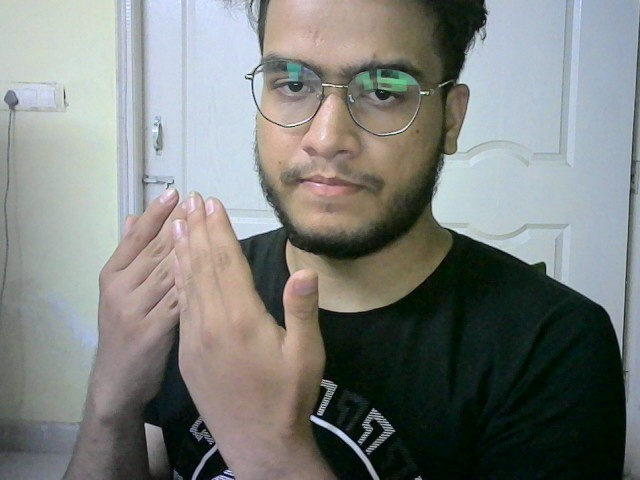Thank You: (84, 183, 335, 398)
